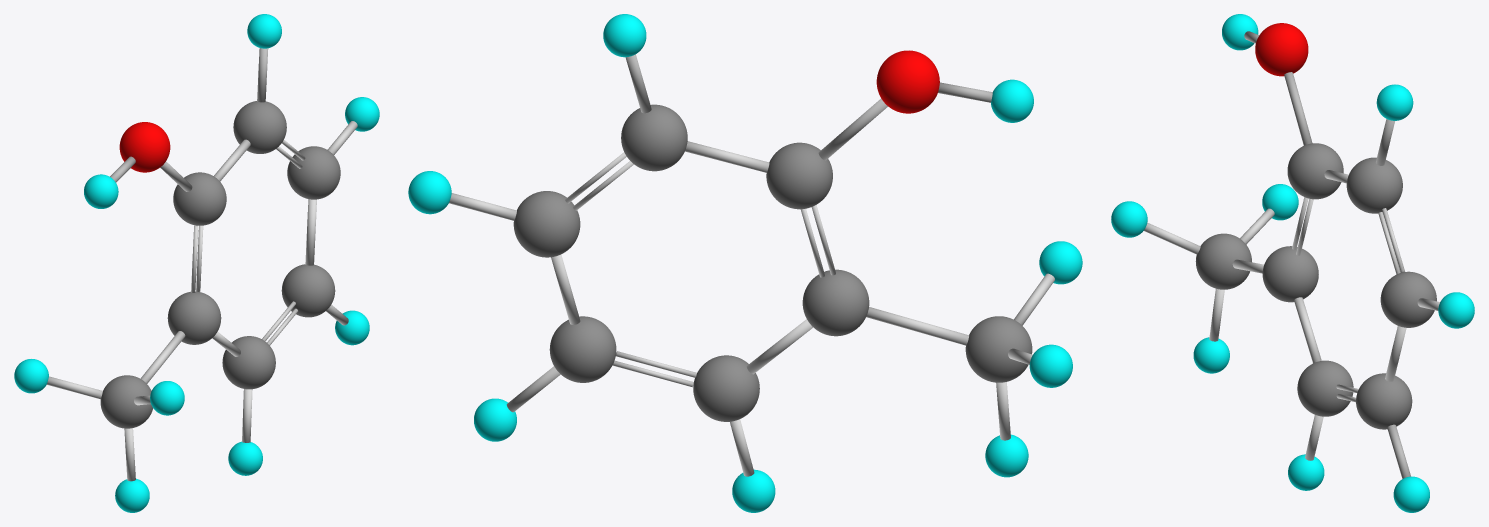
File: o-cresol.glb
The picture shows the model from 3 angles, left to right: view 1: azimuth 30°, elevation 25°; view 2: azimuth 150°, elevation 25°; view 3: azimuth 270°, elevation 25°; orthographic projection. The views are drawn at different scales.
Visible parts, largest first — view 1: CMAtom_0; view 2: CMAtom_0; view 3: CMAtom_0.
Boxes of the visible parts, left/top/right/bottom form: CMAtom_0: left=14, top=14, right=379, bottom=512; CMAtom_0: left=408, top=14, right=1082, bottom=512; CMAtom_0: left=1111, top=14, right=1474, bottom=512.
Bounding box in the file's own units: 0.5919 × 0.5253 × 0.3985.
